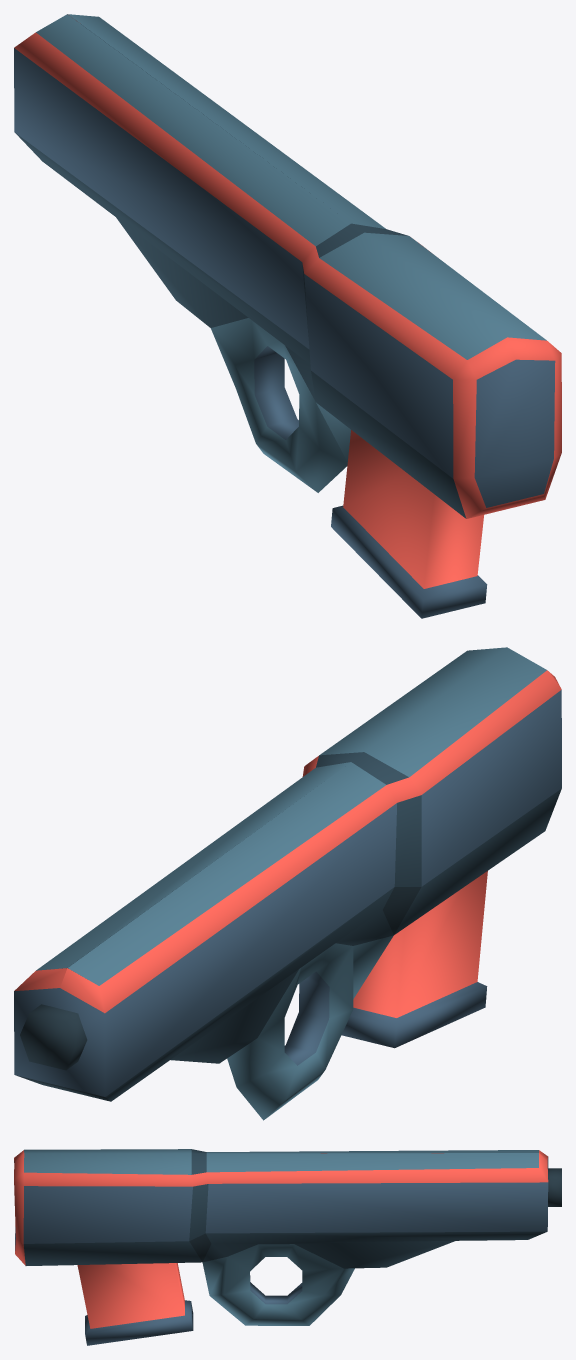
Rendered from Red_GUN.fbx.
The picture shows the model from 3 angles, top to bottom: view 1: azimuth 30°, elevation 25°; view 2: azimuth 150°, elevation 25°; view 3: azimuth 270°, elevation 25°; orthographic projection. The views are drawn at different scales.
Visible parts, largest first — view 1: Cube.058; view 2: Cube.058; view 3: Cube.058.
Boxes of the visible parts, left/top/right/bottom form: Cube.058: left=14, top=14, right=561, bottom=618; Cube.058: left=14, top=647, right=561, bottom=1120; Cube.058: left=14, top=1149, right=561, bottom=1345.
Size of the model in its own units: 43.19 by 298 by 110.
